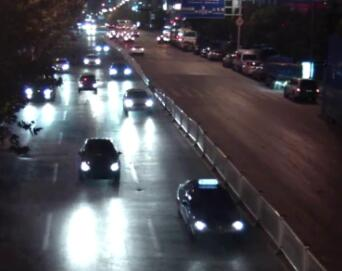bus: (169, 27, 197, 51), (162, 24, 174, 42)
car: (176, 177, 245, 246), (76, 137, 121, 186), (261, 52, 301, 90), (120, 86, 155, 118), (282, 76, 321, 103), (230, 47, 260, 74), (22, 82, 55, 104), (107, 59, 132, 81), (75, 72, 98, 93), (240, 58, 262, 77), (49, 57, 70, 74), (82, 52, 102, 69), (93, 40, 111, 56), (221, 51, 237, 67), (128, 42, 145, 56), (205, 48, 222, 61), (122, 32, 135, 43), (107, 29, 120, 39), (156, 33, 168, 43), (132, 28, 140, 36)
